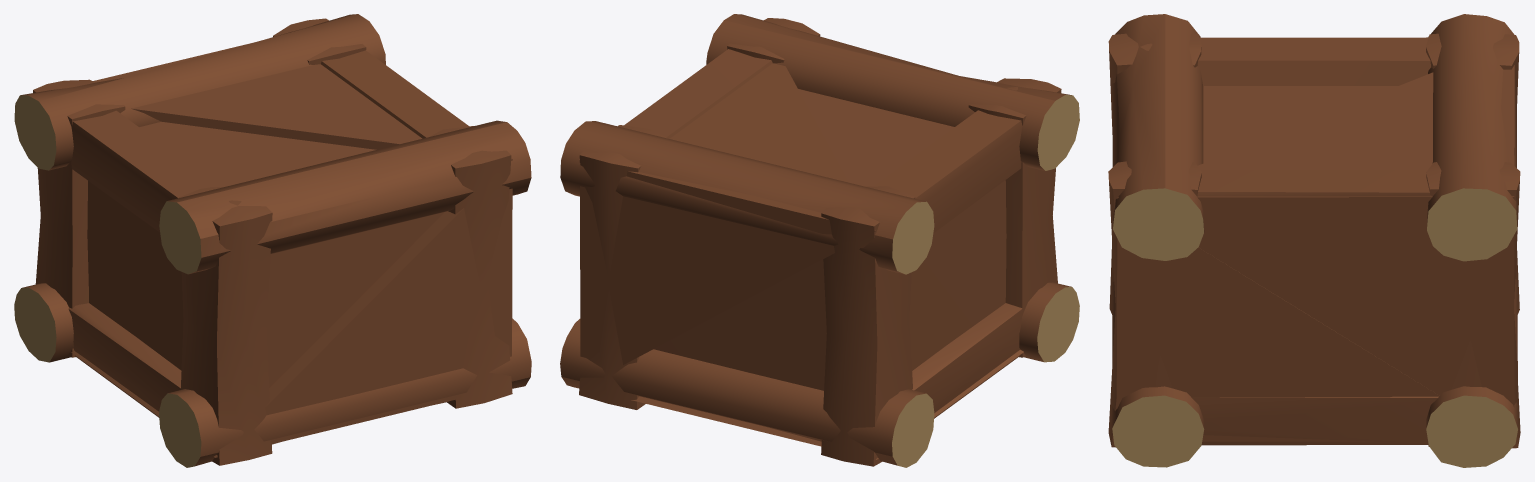
Rendered from upgrade_a.glb.
The picture shows the model from 3 angles, left to right: view 1: azimuth 30°, elevation 25°; view 2: azimuth 150°, elevation 25°; view 3: azimuth 270°, elevation 25°; orthographic projection. The views are drawn at different scales.
Parts seen in each view (by area): view 1: upgrade_a; view 2: upgrade_a; view 3: upgrade_a.
Boxes of the visible parts, x1,y1,x2,y2 form: upgrade_a: (14,14,531,467); upgrade_a: (560,14,1079,467); upgrade_a: (1108,14,1520,467).
Bounding box in the file's own units: 0.8 × 0.6 × 0.8.
